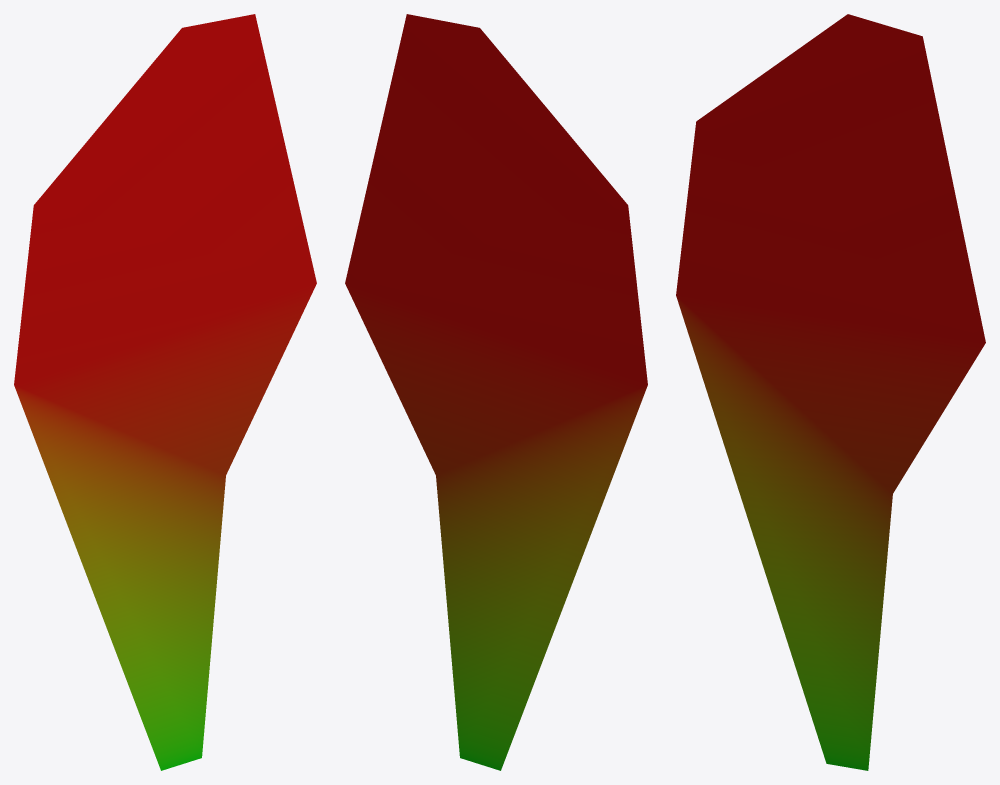
File: Chamomile_LOD4_Var6.fbx
3 views of the same model, side by side, from view 1: azimuth 30°, elevation 25°; view 2: azimuth 150°, elevation 25°; view 3: azimuth 330°, elevation 25° (orthographic). The views are drawn at different scales.
Visible parts, largest first — view 1: _ru3d_Var6_LOD4; view 2: _ru3d_Var6_LOD4; view 3: _ru3d_Var6_LOD4.
Boxes of the visible parts, bbox=[...] form: _ru3d_Var6_LOD4: bbox=[14, 14, 316, 770]; _ru3d_Var6_LOD4: bbox=[345, 14, 647, 770]; _ru3d_Var6_LOD4: bbox=[676, 14, 985, 770].
Size of the model in its own units: 19.08 by 44.42 by 5.3e-06.
